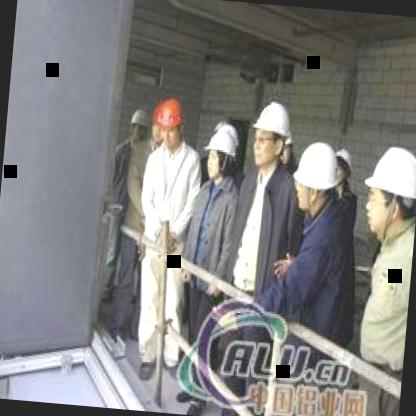helmet: (359, 137, 416, 245), (244, 92, 299, 176), (290, 138, 340, 216), (200, 125, 241, 189), (158, 92, 190, 150), (333, 146, 358, 190), (126, 104, 152, 146), (150, 99, 166, 145)
